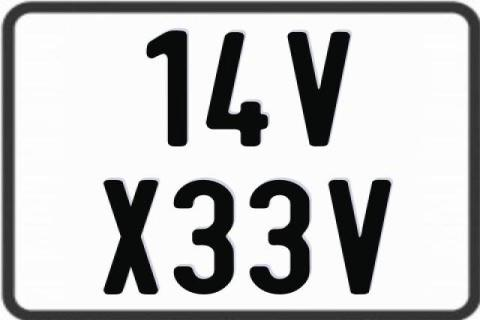0: (206, 30, 273, 150), (249, 180, 313, 297), (173, 179, 235, 295), (143, 30, 185, 146)
V: (329, 179, 397, 297), (285, 31, 348, 151)
X: (102, 179, 158, 295)
